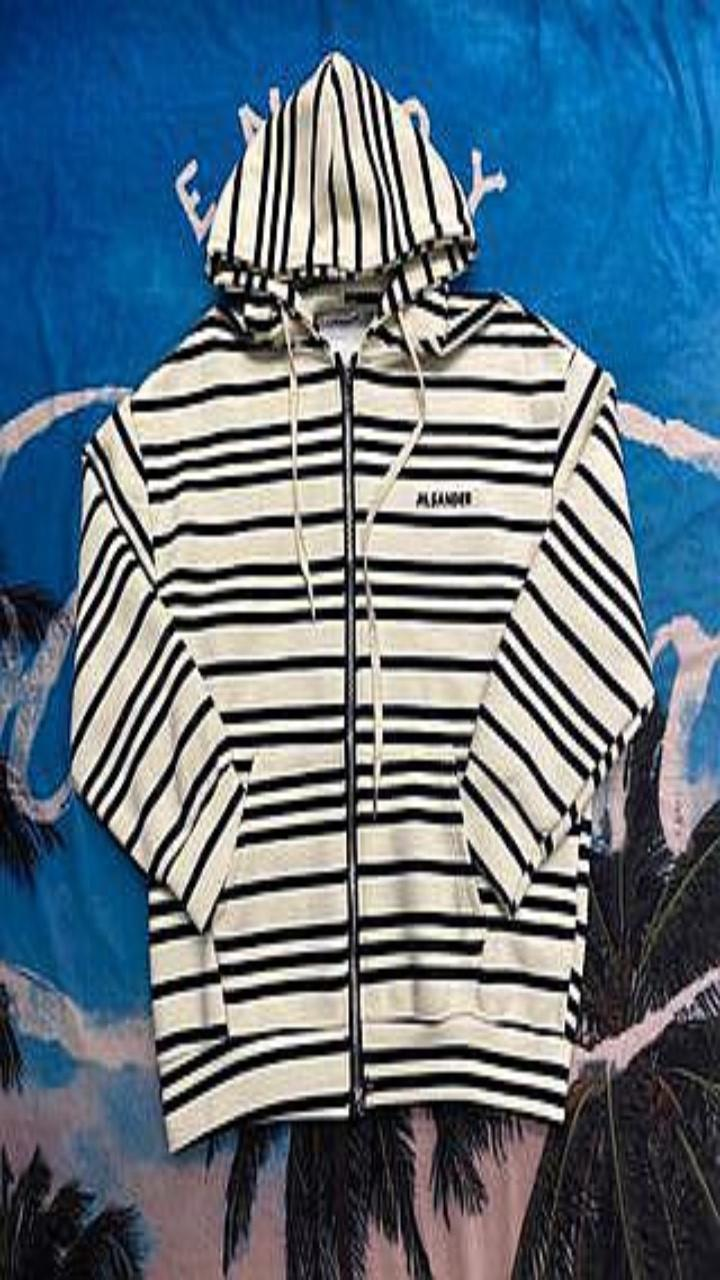Sports_Jacket: (71, 51, 654, 1150)
